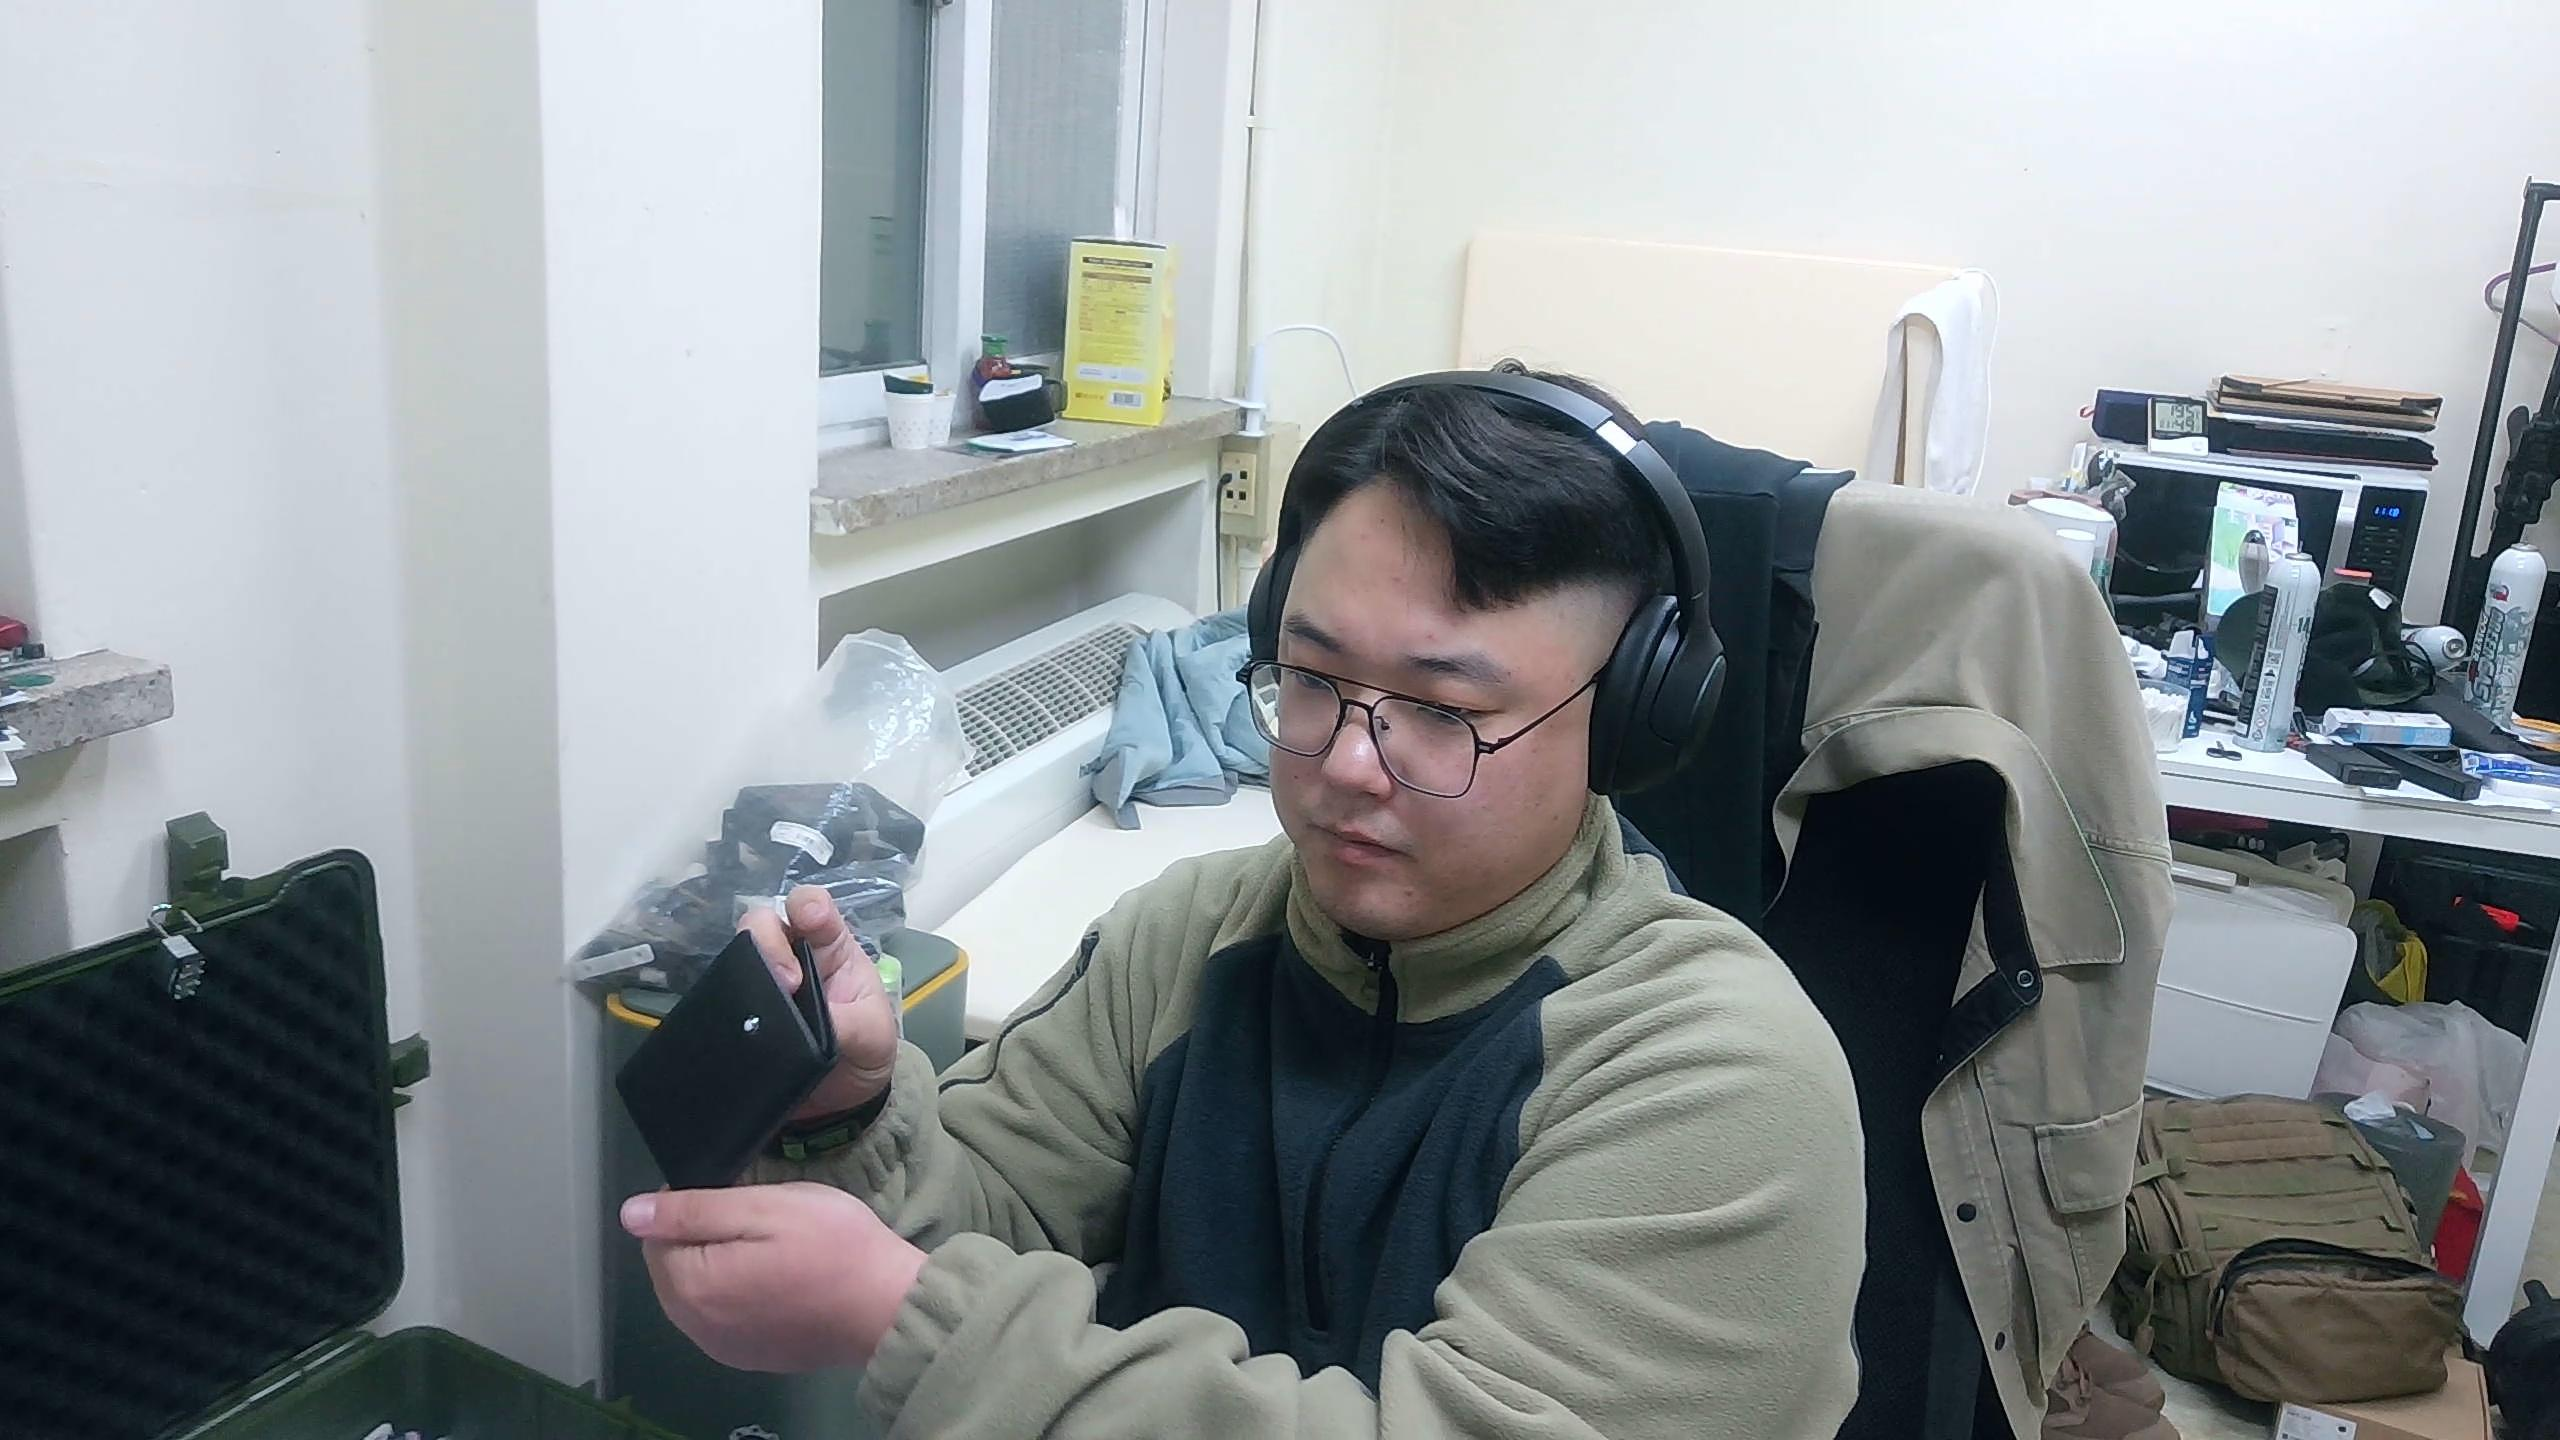Wallet: (615, 920, 844, 1194)
